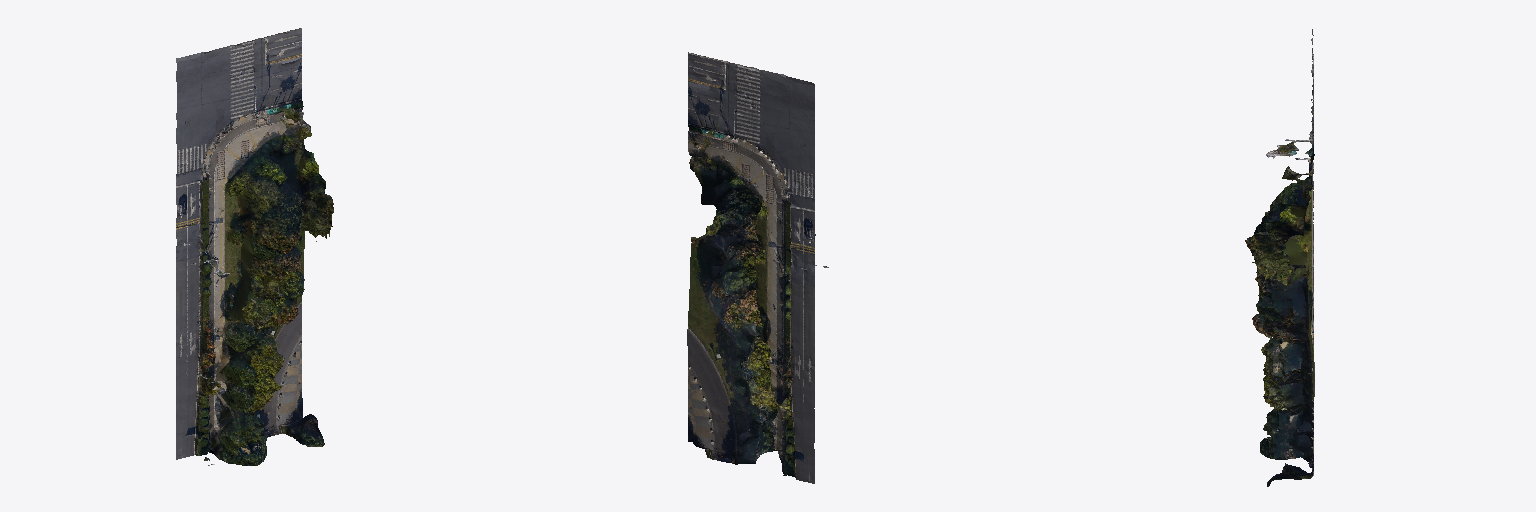
3 renders of one model, left to right at view 1: azimuth 30°, elevation 25°; view 2: azimuth 150°, elevation 25°; view 3: azimuth 270°, elevation 25°, orthographic.
Size of the model in its own units: 33.11 by 100 by 15.85.
Materials: 1 (1 with a texture image).